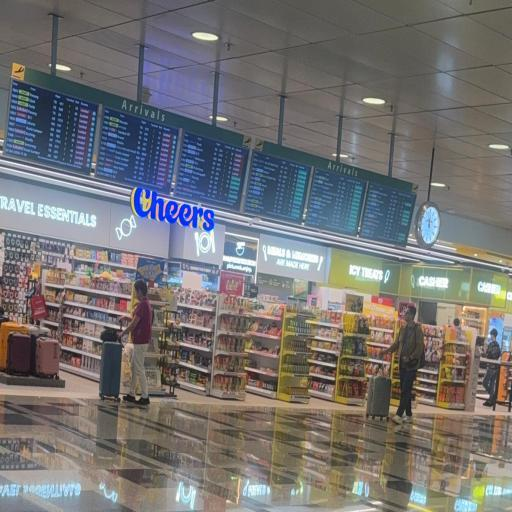person_left: (366, 304, 425, 425)
